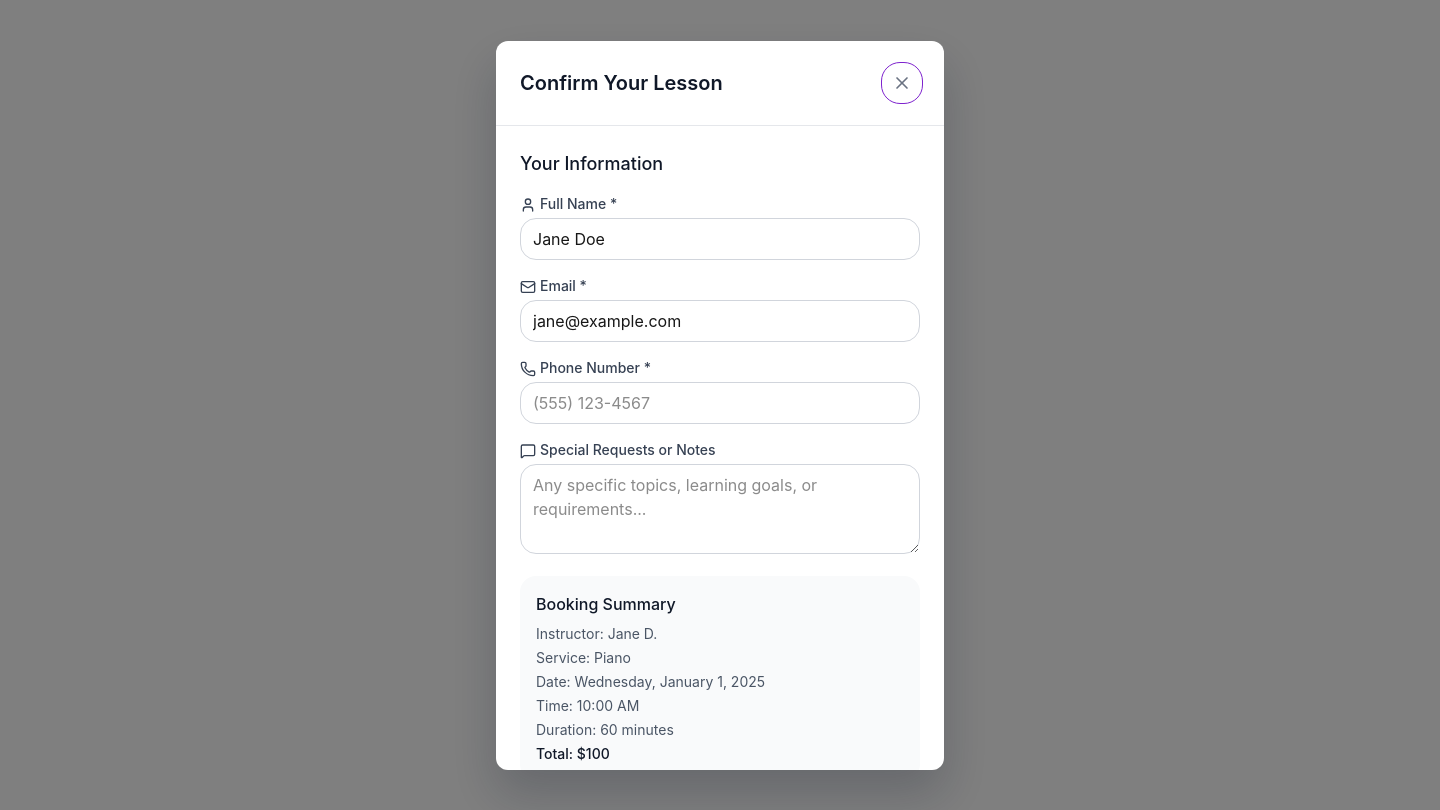
BookingModal › booking form validation › enables continue button when all fields filled and terms agreed
The image size is (1440, 810).
# Authenticated user already sees form
Step 1. Type "555-1111" into the field labelled "Phone Number *" → (720, 402), box [520,382,920,424]
(page scrolled)
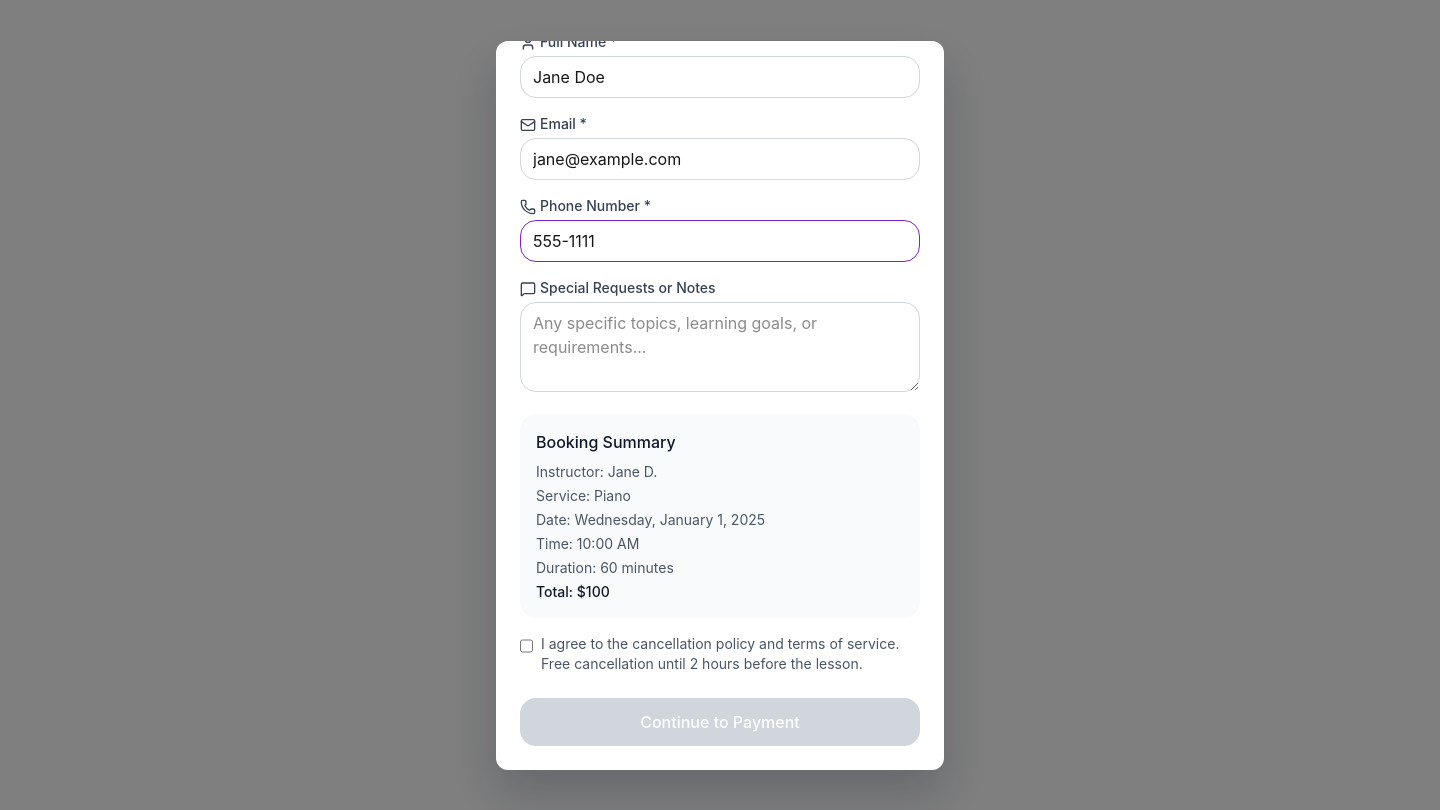
Step 2. Click the checkbox → (526, 646), box [520,638,533,654]
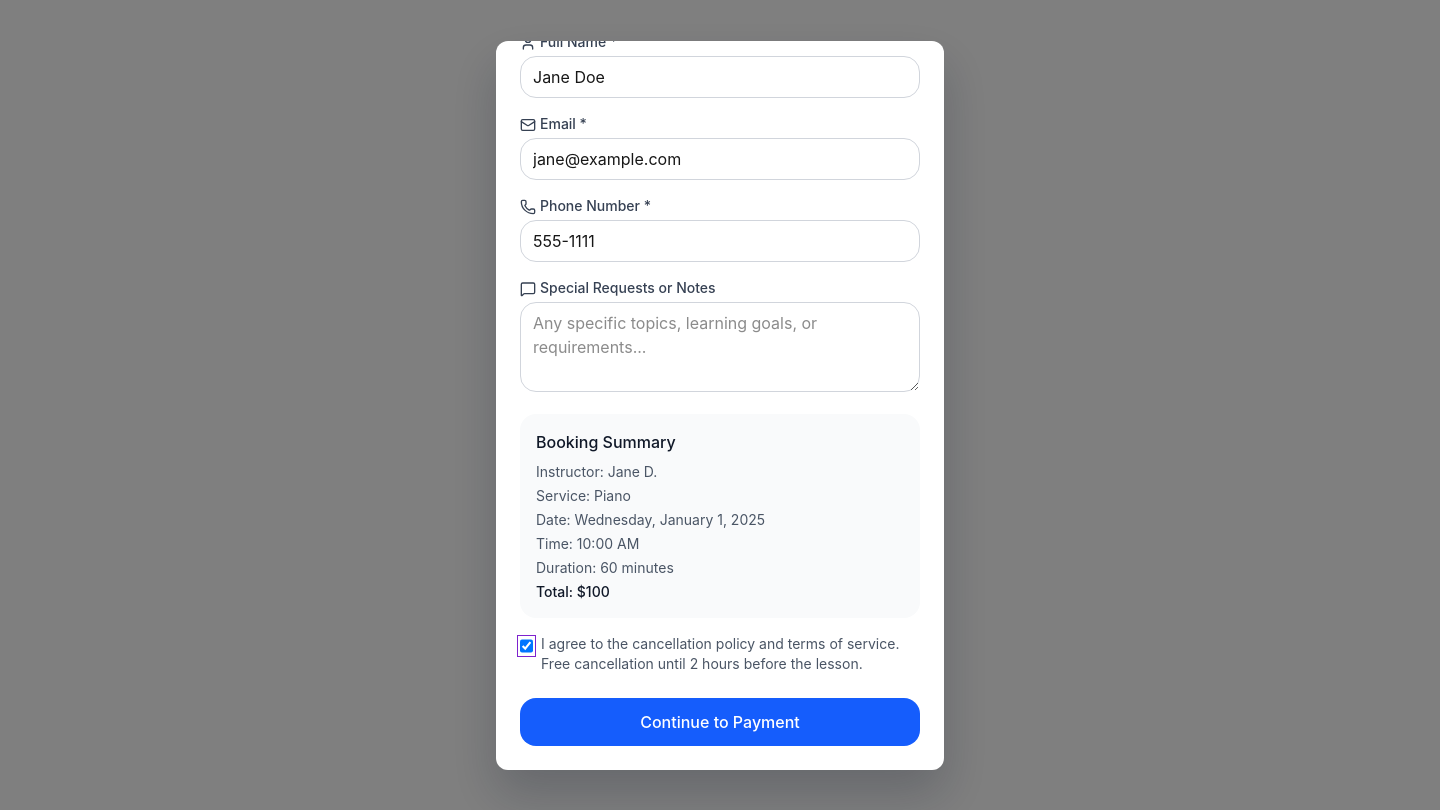
Now the button "Continue to Payment" is enabled, box [520,698,920,746]
